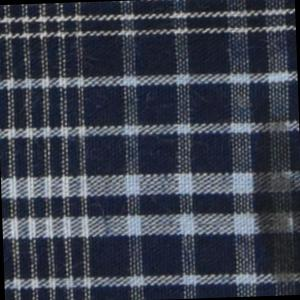Stain: (249, 111, 300, 297)
